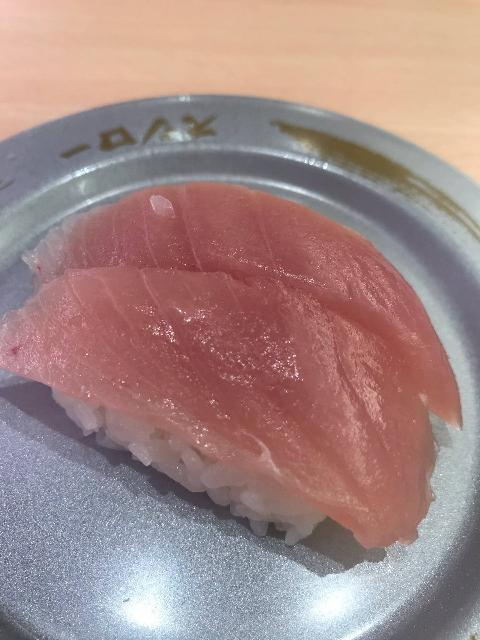janwhite: (0, 42, 480, 640)
